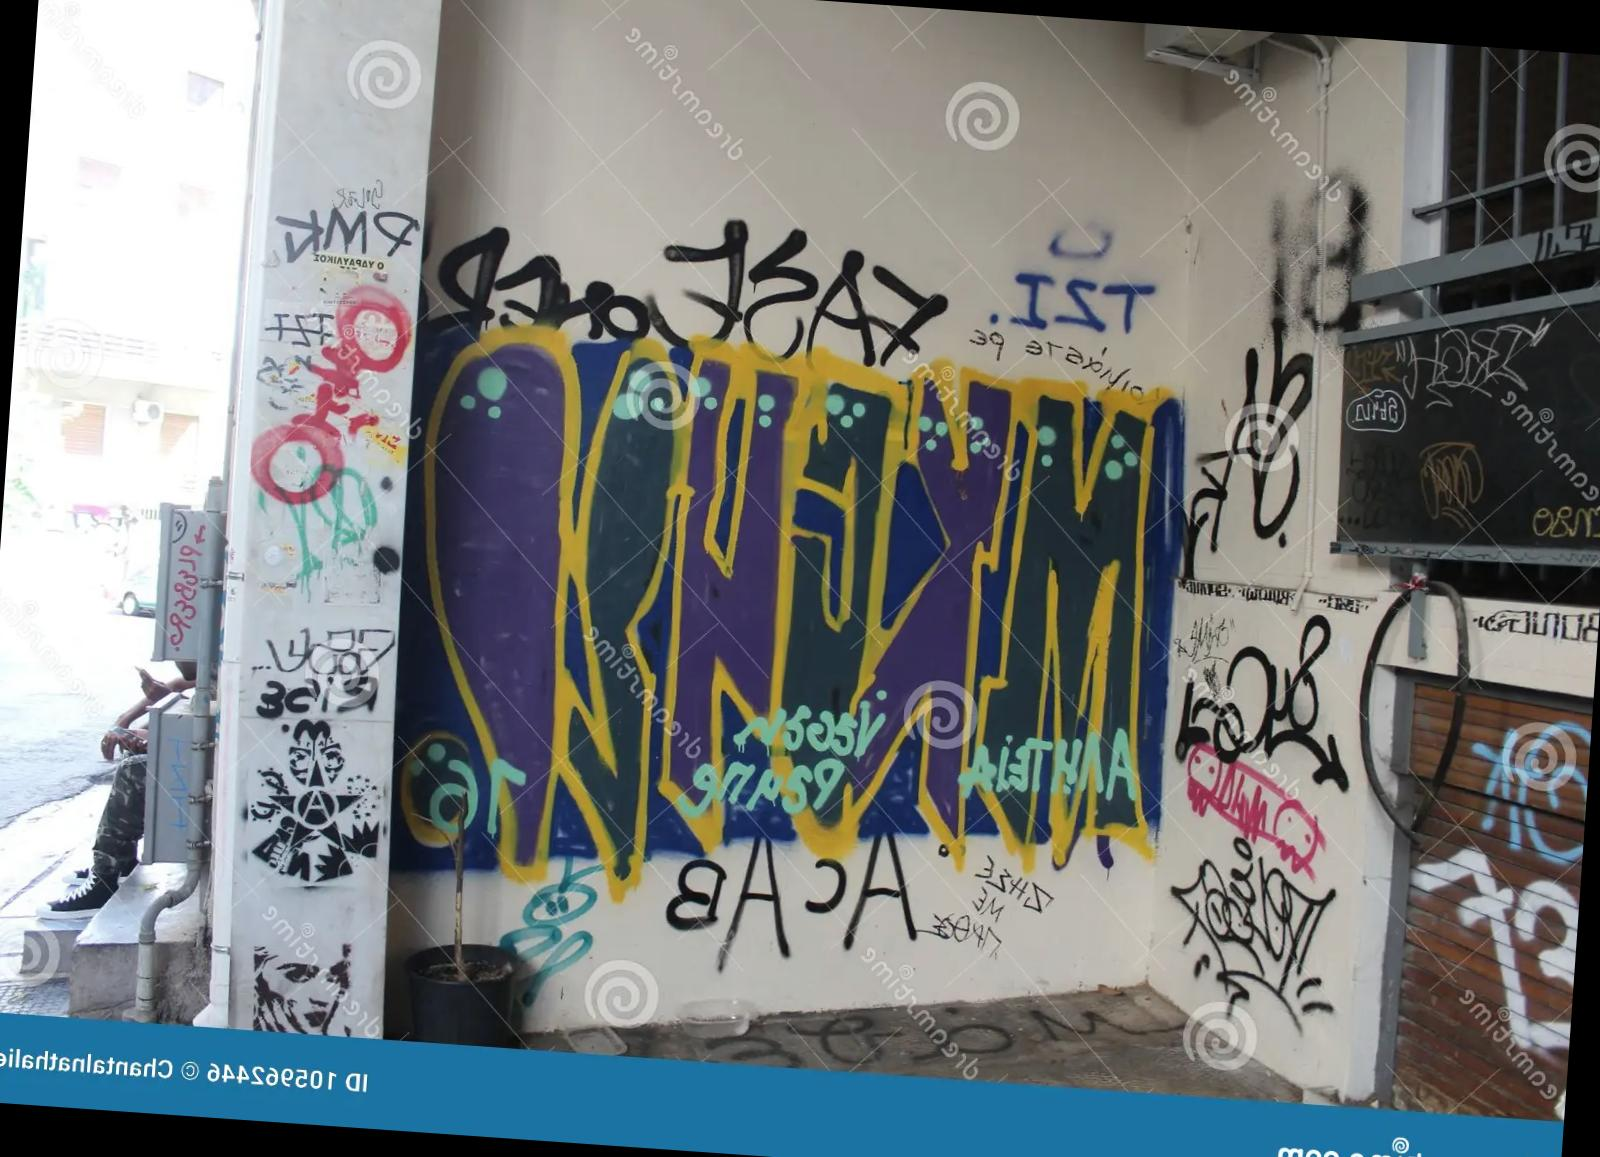graffiti: (398, 326, 1183, 900), (1152, 614, 1350, 1082), (1411, 721, 1591, 1071), (665, 220, 948, 364), (251, 285, 411, 506), (439, 227, 688, 348), (1190, 348, 1312, 563), (241, 718, 384, 886), (843, 865, 1055, 956), (1272, 170, 1369, 347), (252, 628, 394, 718), (241, 943, 378, 1035), (498, 879, 596, 1007), (291, 464, 379, 601), (990, 270, 1158, 338), (716, 836, 789, 978), (1426, 323, 1543, 408), (153, 514, 215, 667), (267, 205, 420, 266), (1465, 598, 1600, 649), (1347, 338, 1416, 432), (1419, 441, 1484, 534), (1487, 215, 1600, 268), (856, 836, 912, 922), (793, 856, 855, 912), (678, 859, 735, 907), (1532, 505, 1600, 541)
